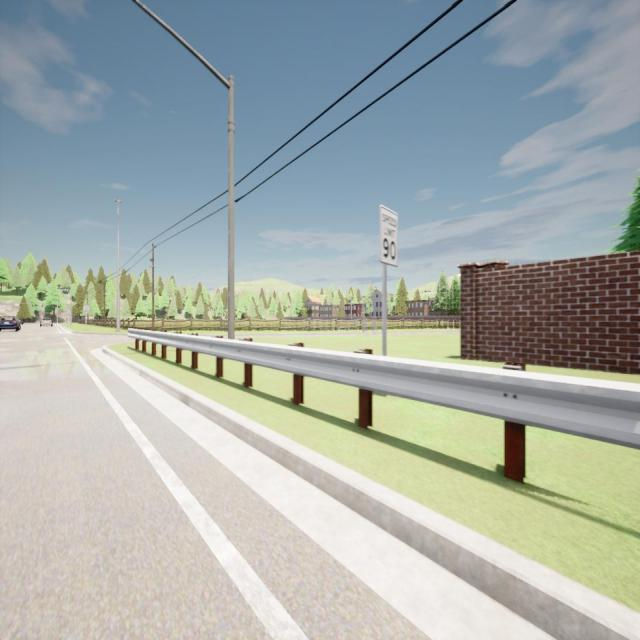Traffic_Signs: (380, 205, 398, 266), (83, 305, 89, 313)
Vehicle: (0, 315, 20, 331), (40, 318, 53, 328)
